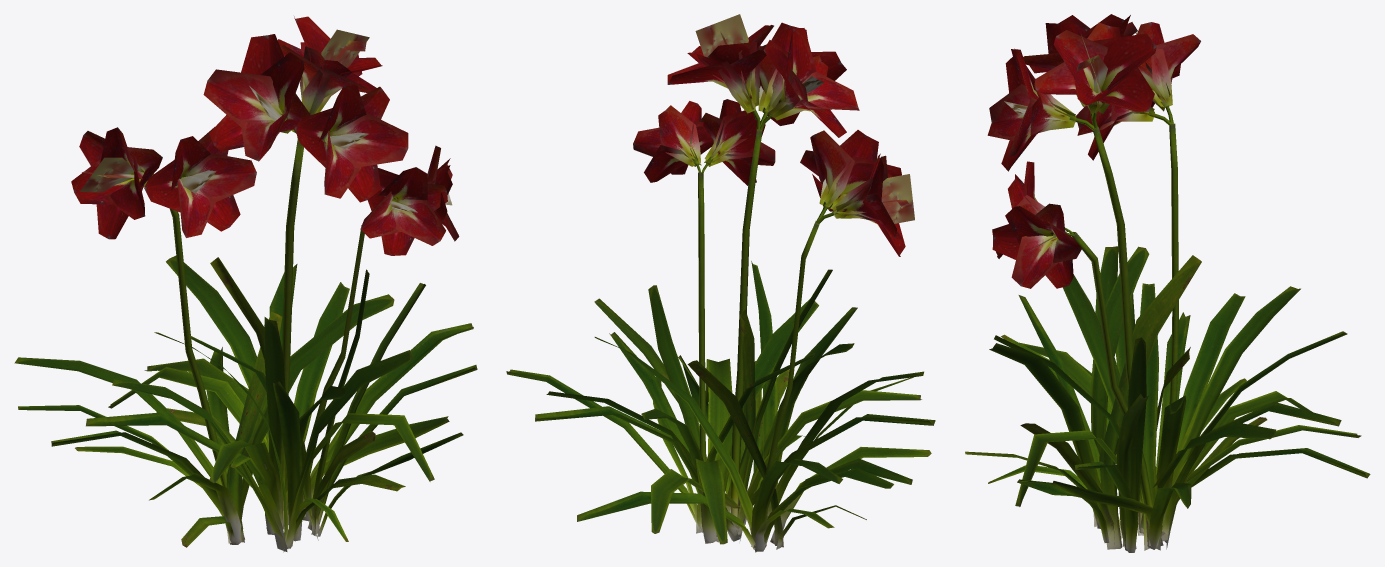
Rendered from Amaryllis_bush_long_red.glb.
3 renders of one model, left to right at view 1: azimuth 30°, elevation 25°; view 2: azimuth 150°, elevation 25°; view 3: azimuth 270°, elevation 25°, orthographic. The views are drawn at different scales.
Visible parts, largest first — view 1: bush; view 2: bush; view 3: bush.
Part boxes in pixels (x1,y1,x2,y2): bush: (14,16,477,552); bush: (506,14,935,552); bush: (965,14,1370,552).
Bounding box in the file's own units: 2.94 × 3.42 × 2.41.
1 material, 1 textured.
